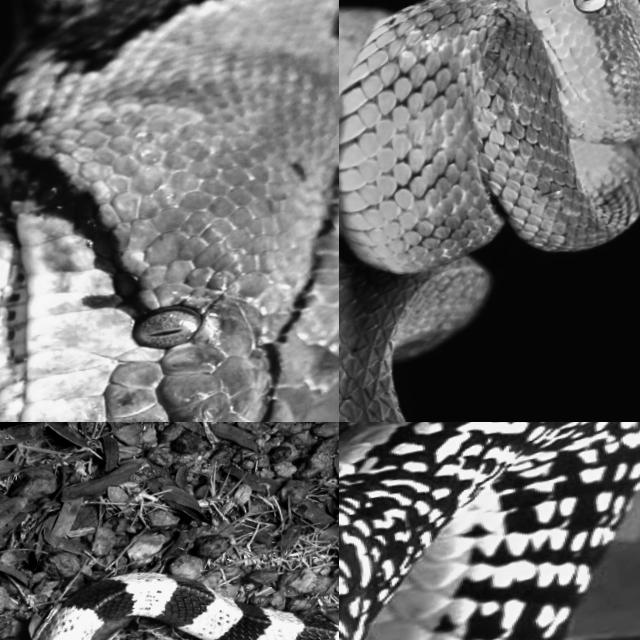Bungarus candidus: (40, 572, 338, 639)
Chrysopelea ornata: (339, 422, 639, 639)
Malayopython reticulatus: (0, 0, 338, 421)
Trimeresurus macrops: (339, 0, 639, 421)
snake: (0, 0, 338, 421), (339, 0, 639, 421), (339, 422, 639, 639), (40, 572, 338, 639)
